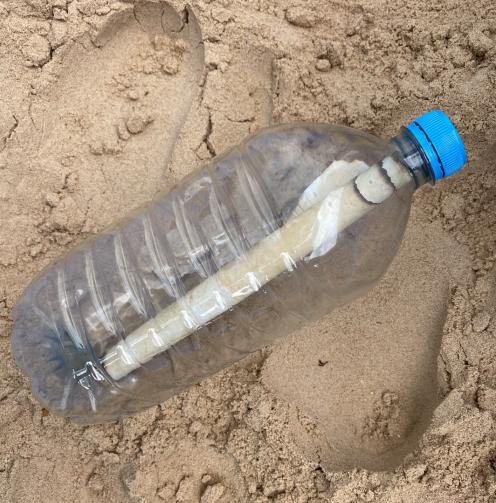bottle: (6, 70, 474, 436)
